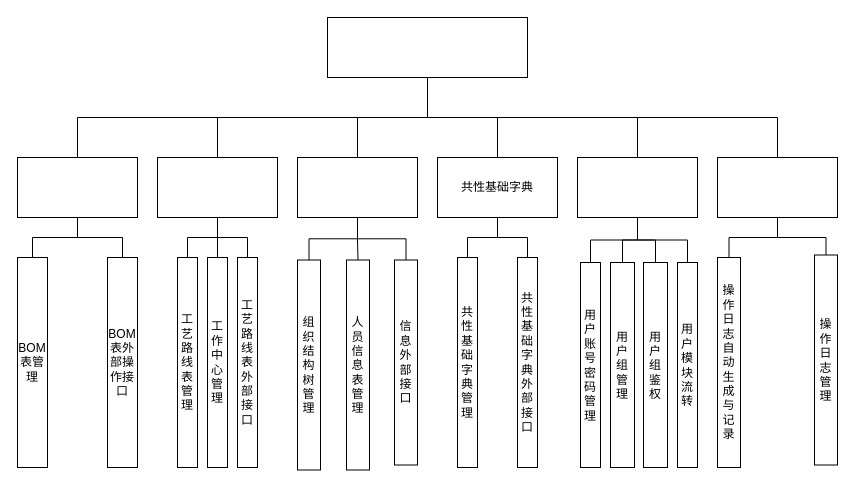
This 855x488 diagram has some shape labels left out. The centre of each missing label's shape, as x and y in pixels:
产品信息管理: the point at 77,187
工艺信息管理: the point at 217,187
系统与基础信息管理模块: the point at 427,47
系统操作日志管理: the point at 777,187
系统访问权限管理: the point at 637,187
组织与人员信息管理: the point at 357,187
